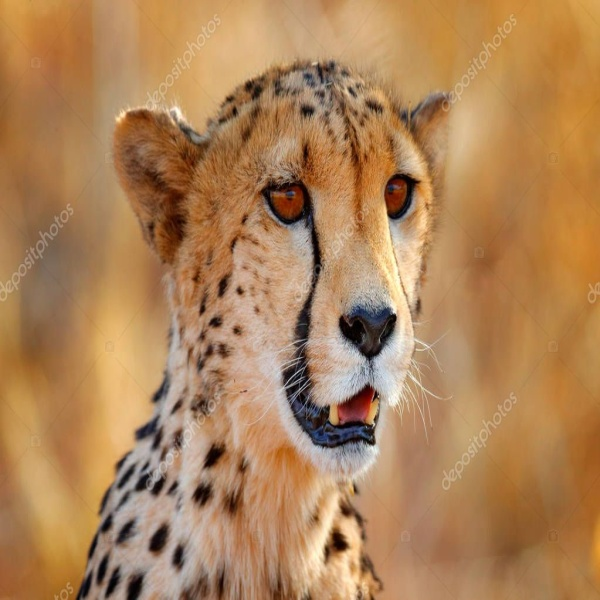Cheetah: (78, 51, 455, 598)
